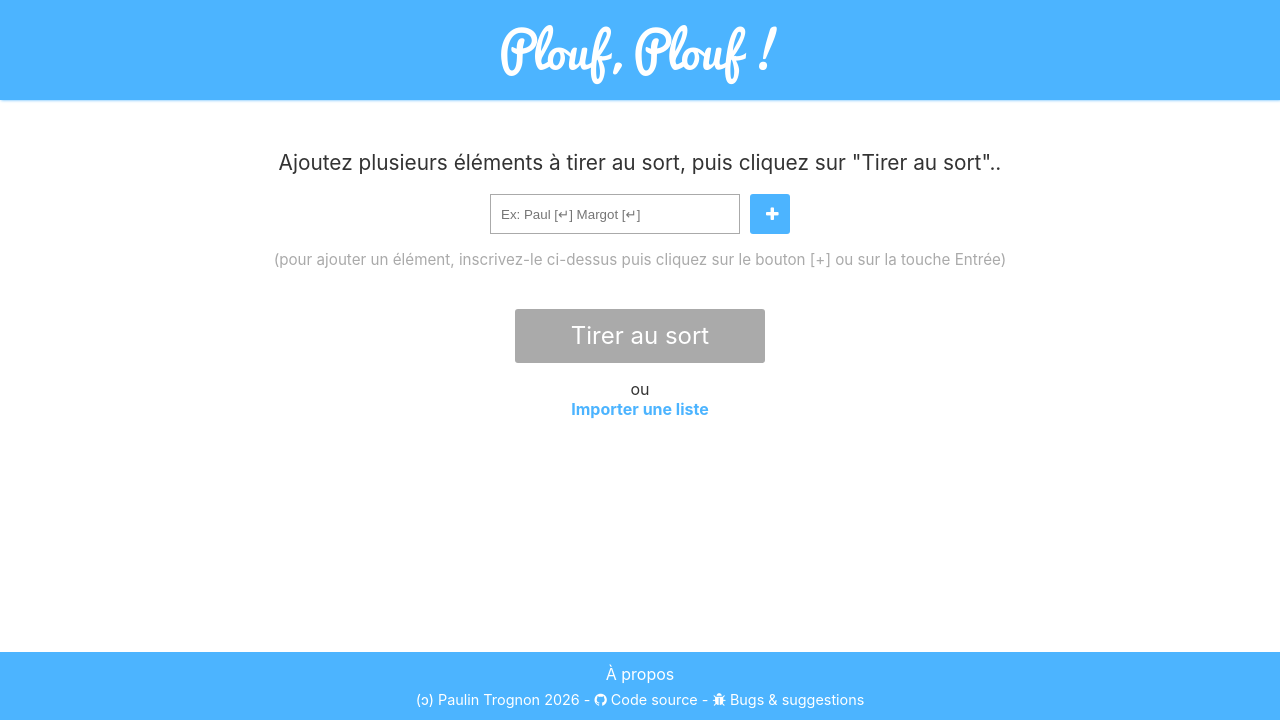
Test: Reset draw › should remove all values on click on resetButton
The image size is (1280, 720).
Type "value 1" into the field with test id "AddValueForm_textInput" at (615,214), box left=490, top=194, right=740, bottom=234
Click the button with test id "AddValueForm_addInput" at (770,214), box left=750, top=194, right=790, bottom=234
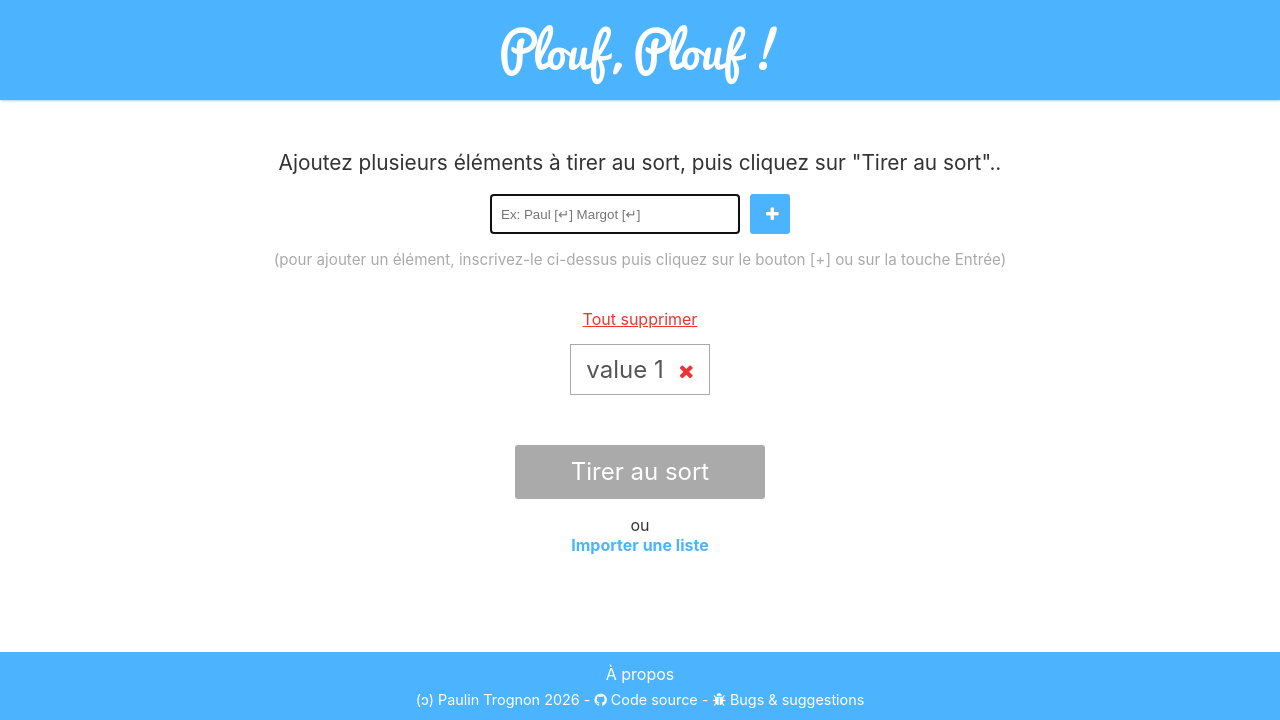
Type "value 2" into the field with test id "AddValueForm_textInput" at (615,214), box left=490, top=194, right=740, bottom=234
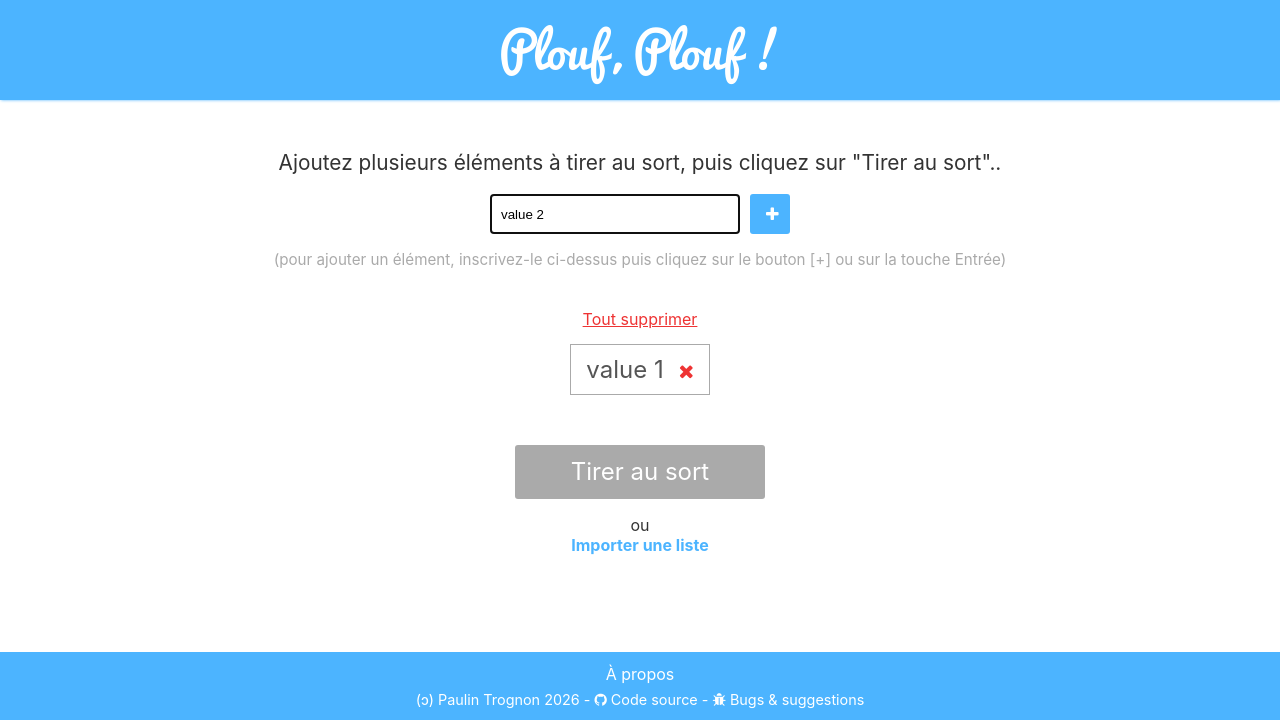
Click the button with test id "AddValueForm_addInput" at (770,214), box left=750, top=194, right=790, bottom=234
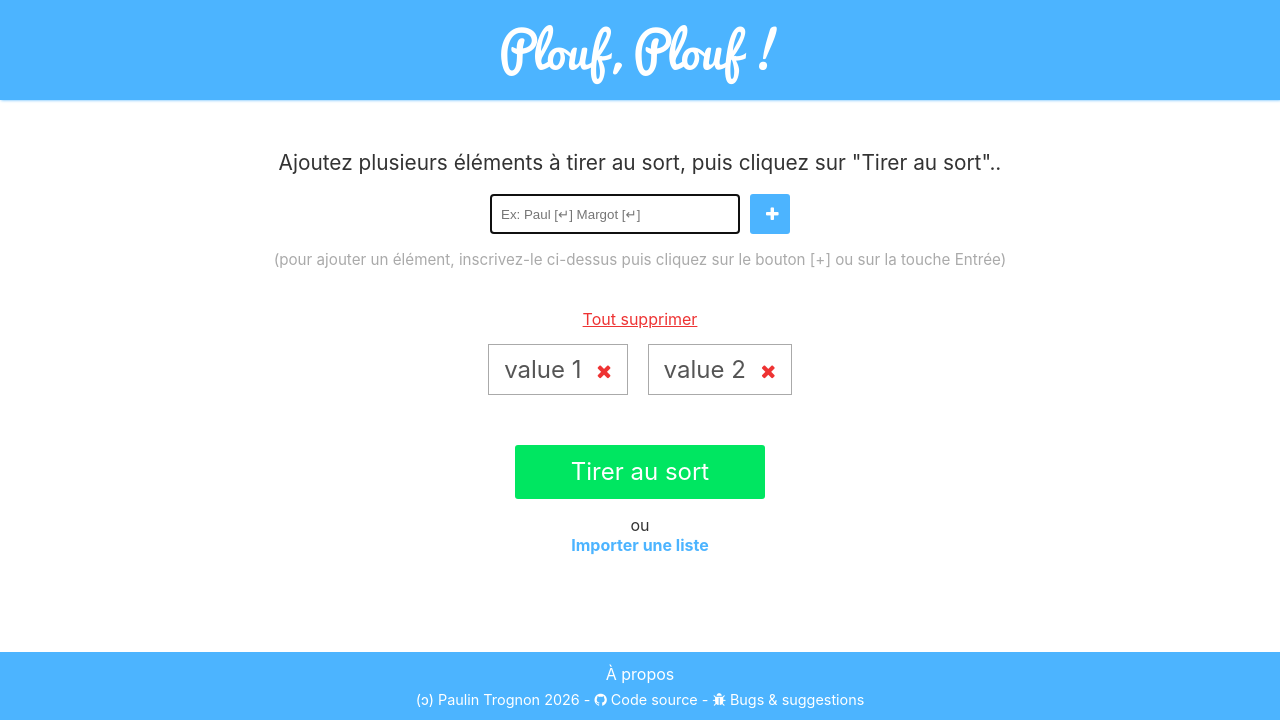
Type "value 3" into the field with test id "AddValueForm_textInput" at (615,214), box left=490, top=194, right=740, bottom=234
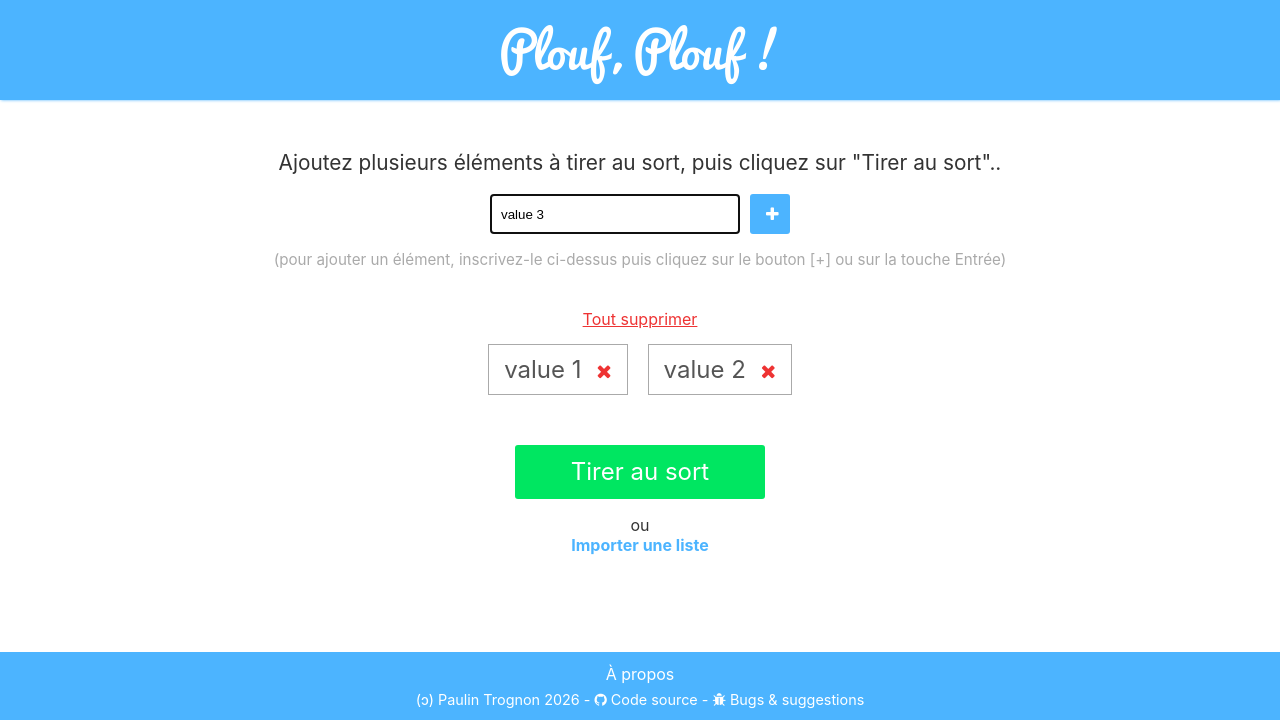
Click the button with test id "AddValueForm_addInput" at (770,214), box left=750, top=194, right=790, bottom=234
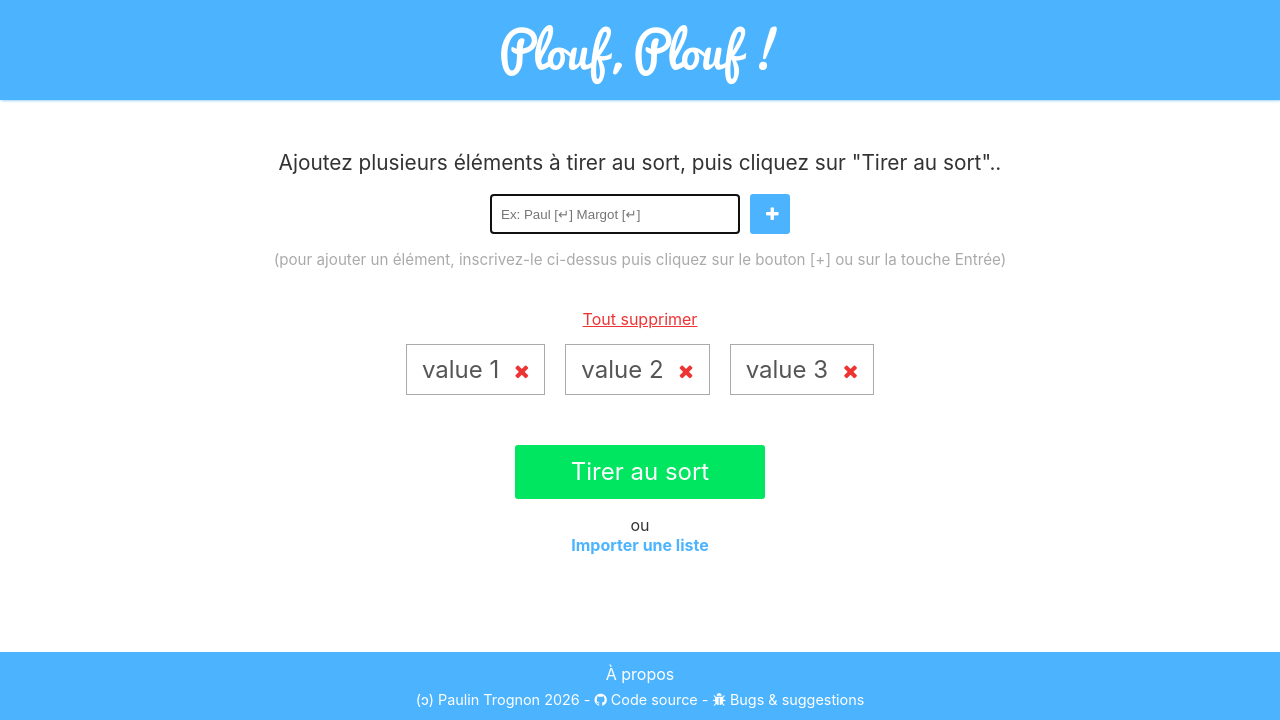
expect the number of elements with test id "Value" is 3: met, box left=406, top=344, right=545, bottom=395; left=565, top=344, right=710, bottom=395; left=730, top=344, right=874, bottom=395
Click the button with test id "ListValues_resetButton" at (641,319), box left=583, top=309, right=698, bottom=329
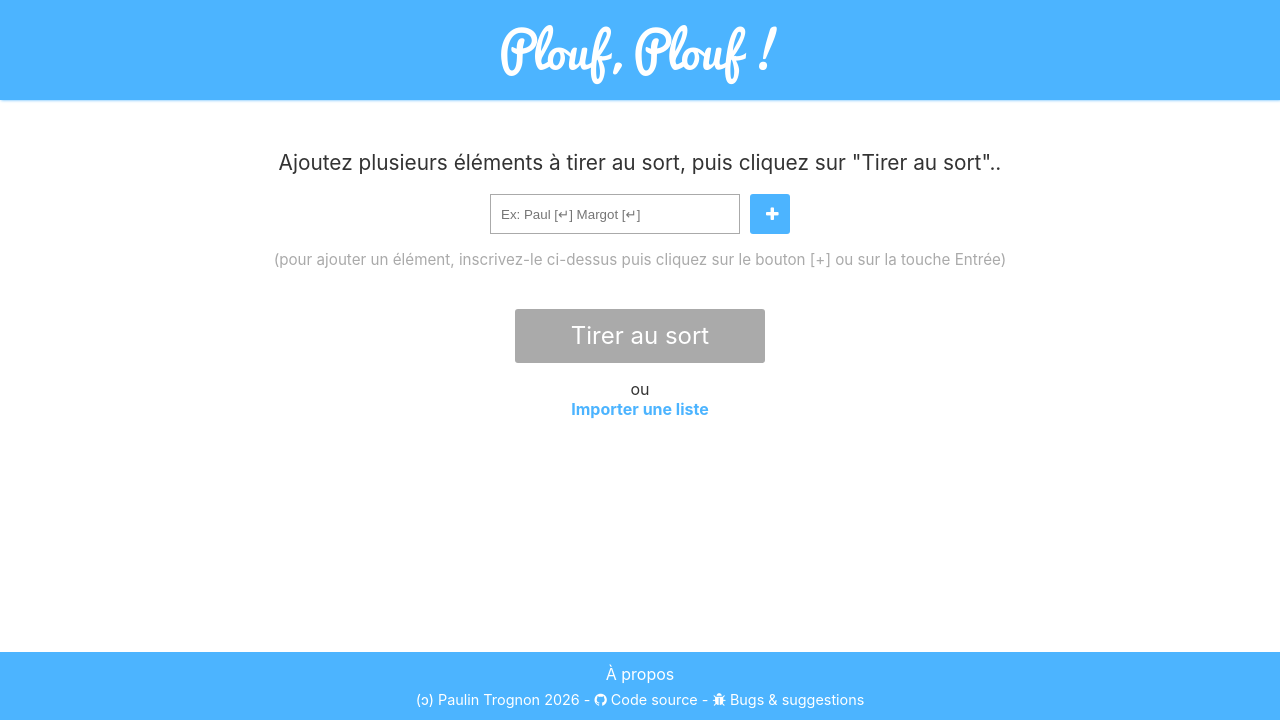
expect no elements with test id "Value" are shown: met
